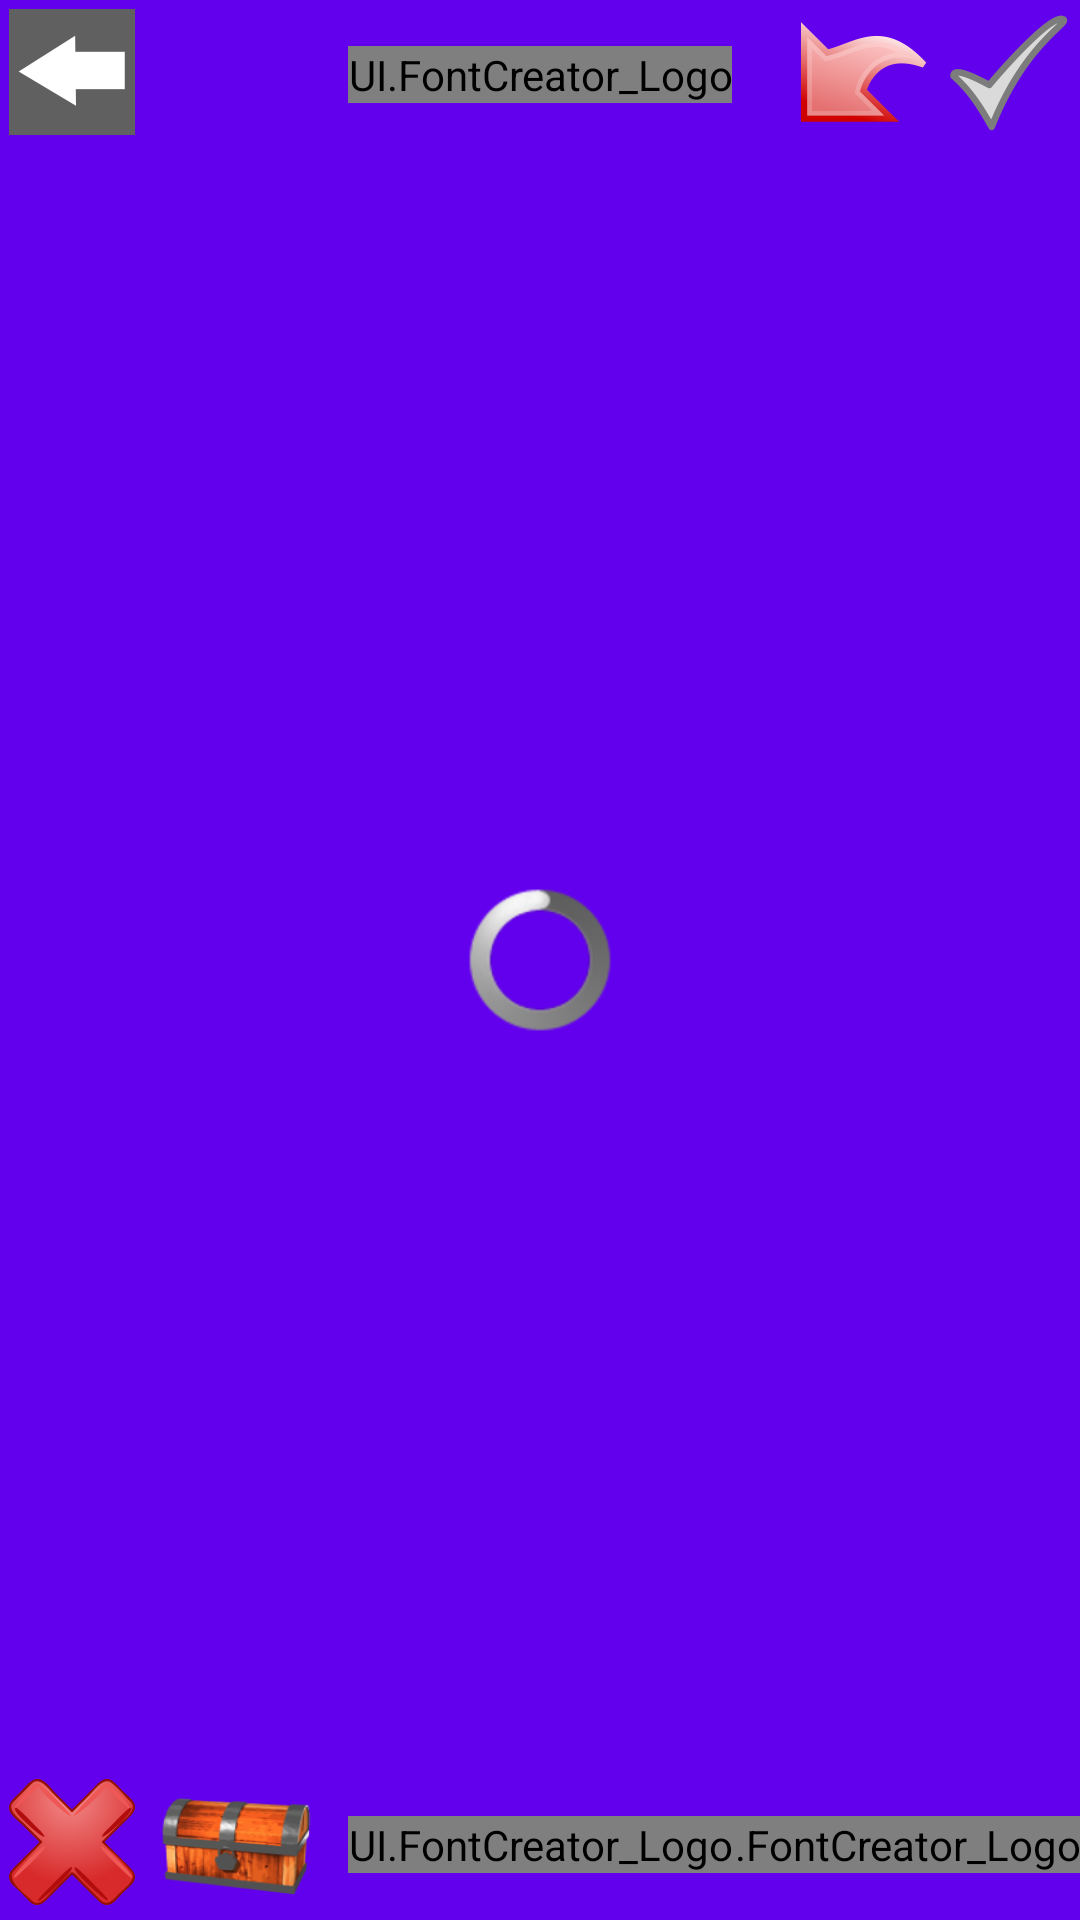

Locate icon controls on the screen. Image size 1080*1920, boxes as (x1, y1, x2, y2).
back tool bar: (9, 9, 135, 135)
chest: (162, 1798, 310, 1895)
remove: (9, 1779, 135, 1905)
undo: (801, 22, 926, 122)
